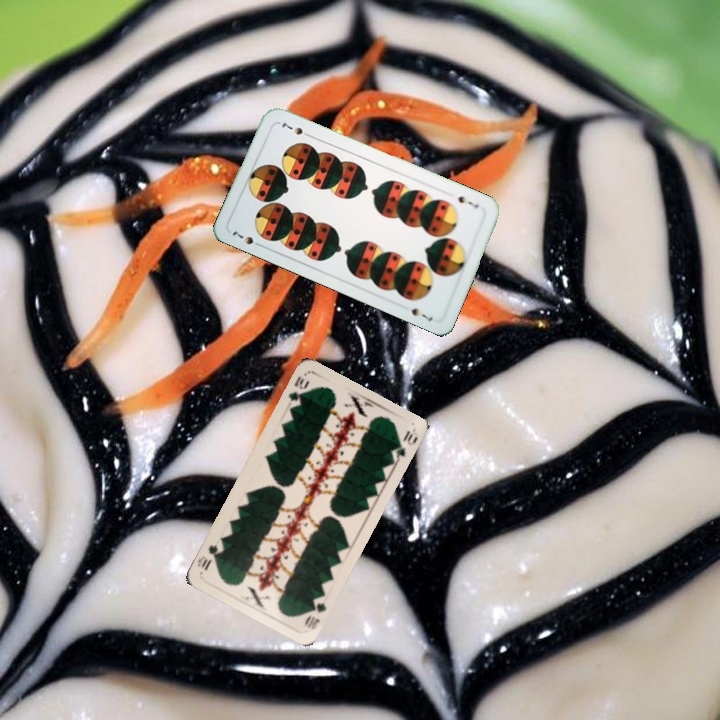G10: (300, 592, 329, 632), (284, 372, 312, 404)
S7: (228, 227, 265, 250), (454, 192, 481, 211)
